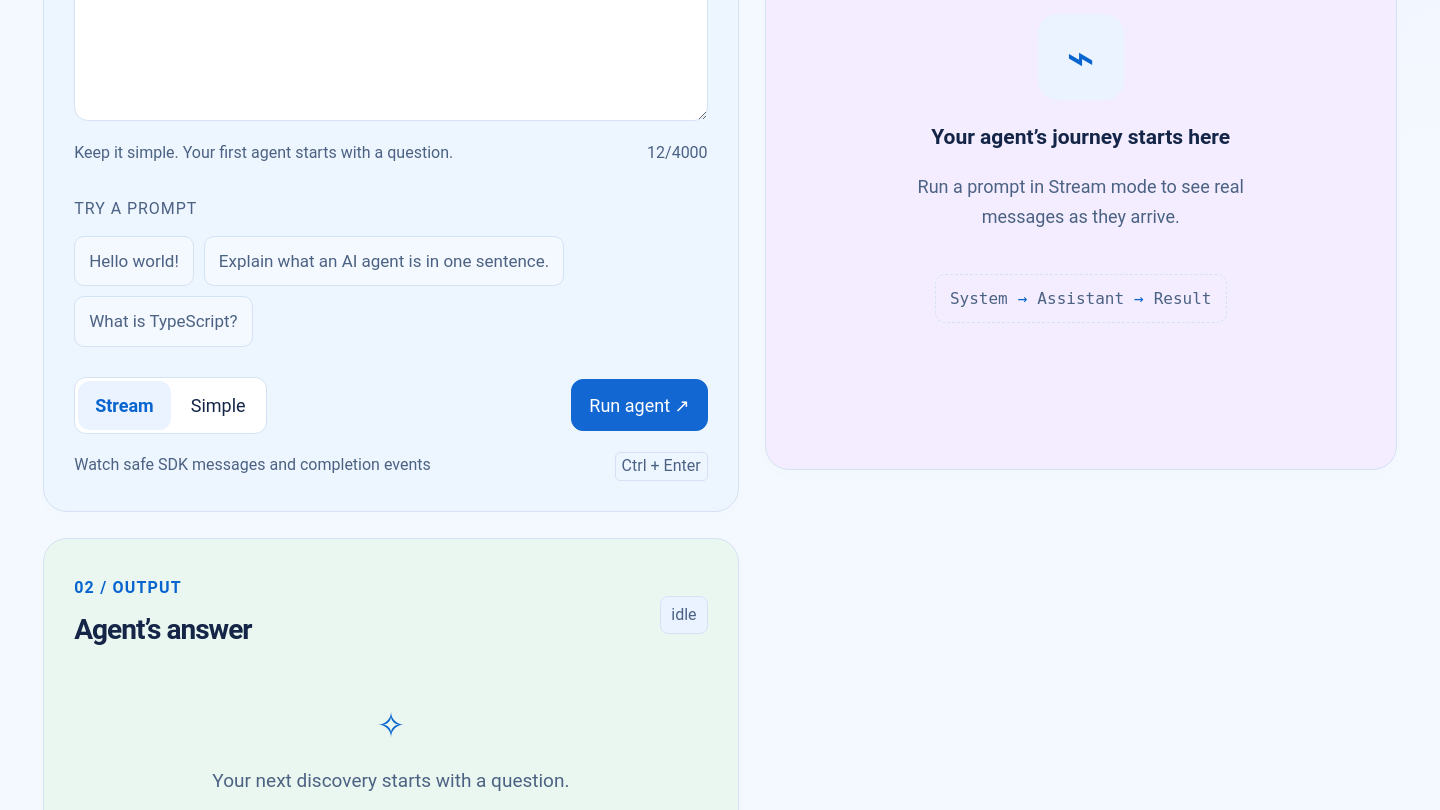
Test: React agent playground › retains a model error after transport completion
(page scrolled)
Click the button "Run agent ↗": [640, 405] box x1=571 y1=379 x2=708 y2=431
(page scrolled)
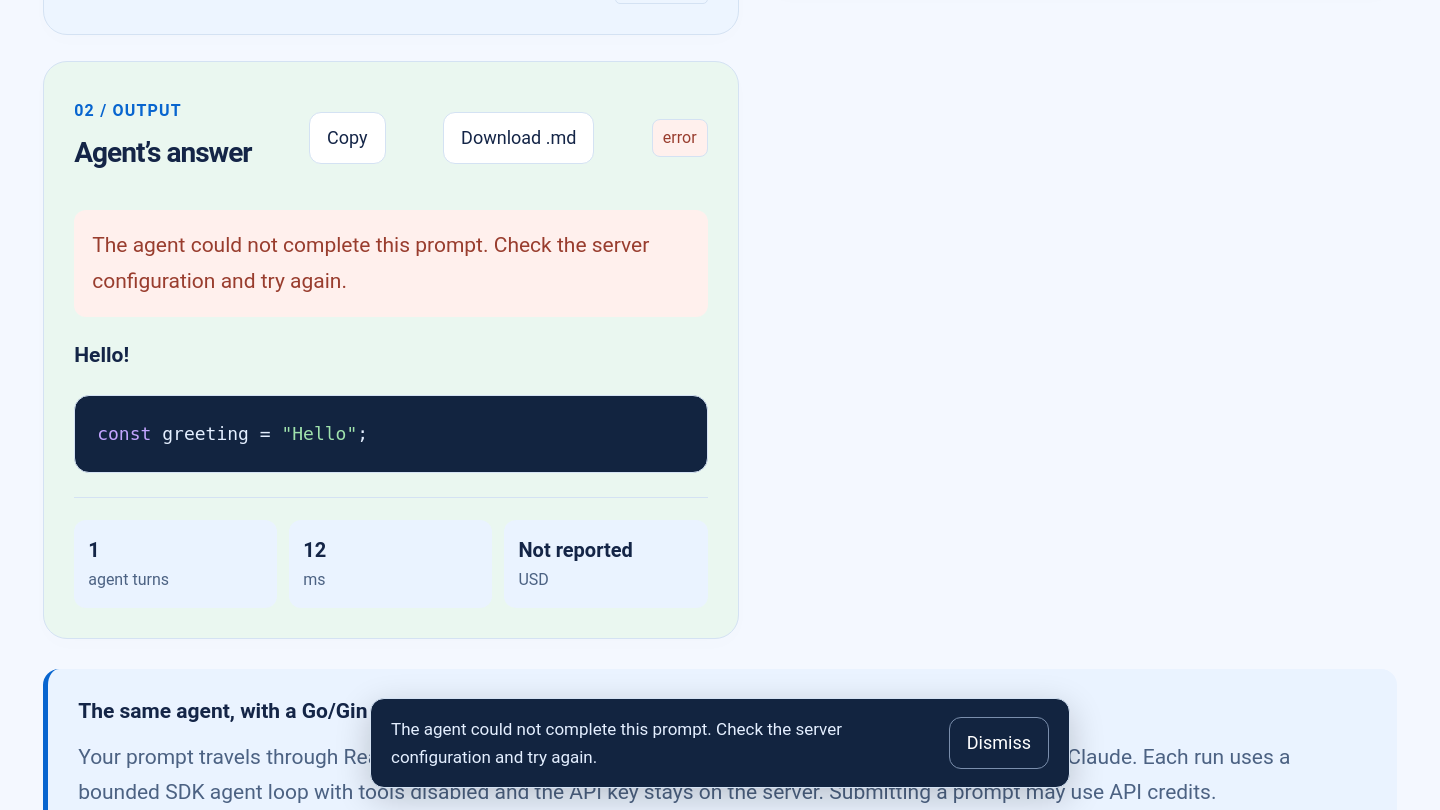
Result: the text with class "state" reads "error" at x1=663 y1=128 x2=697 y2=146
Result: the element with class "markdown" shows "Hello!" at x1=74 y1=343 x2=129 y2=367
